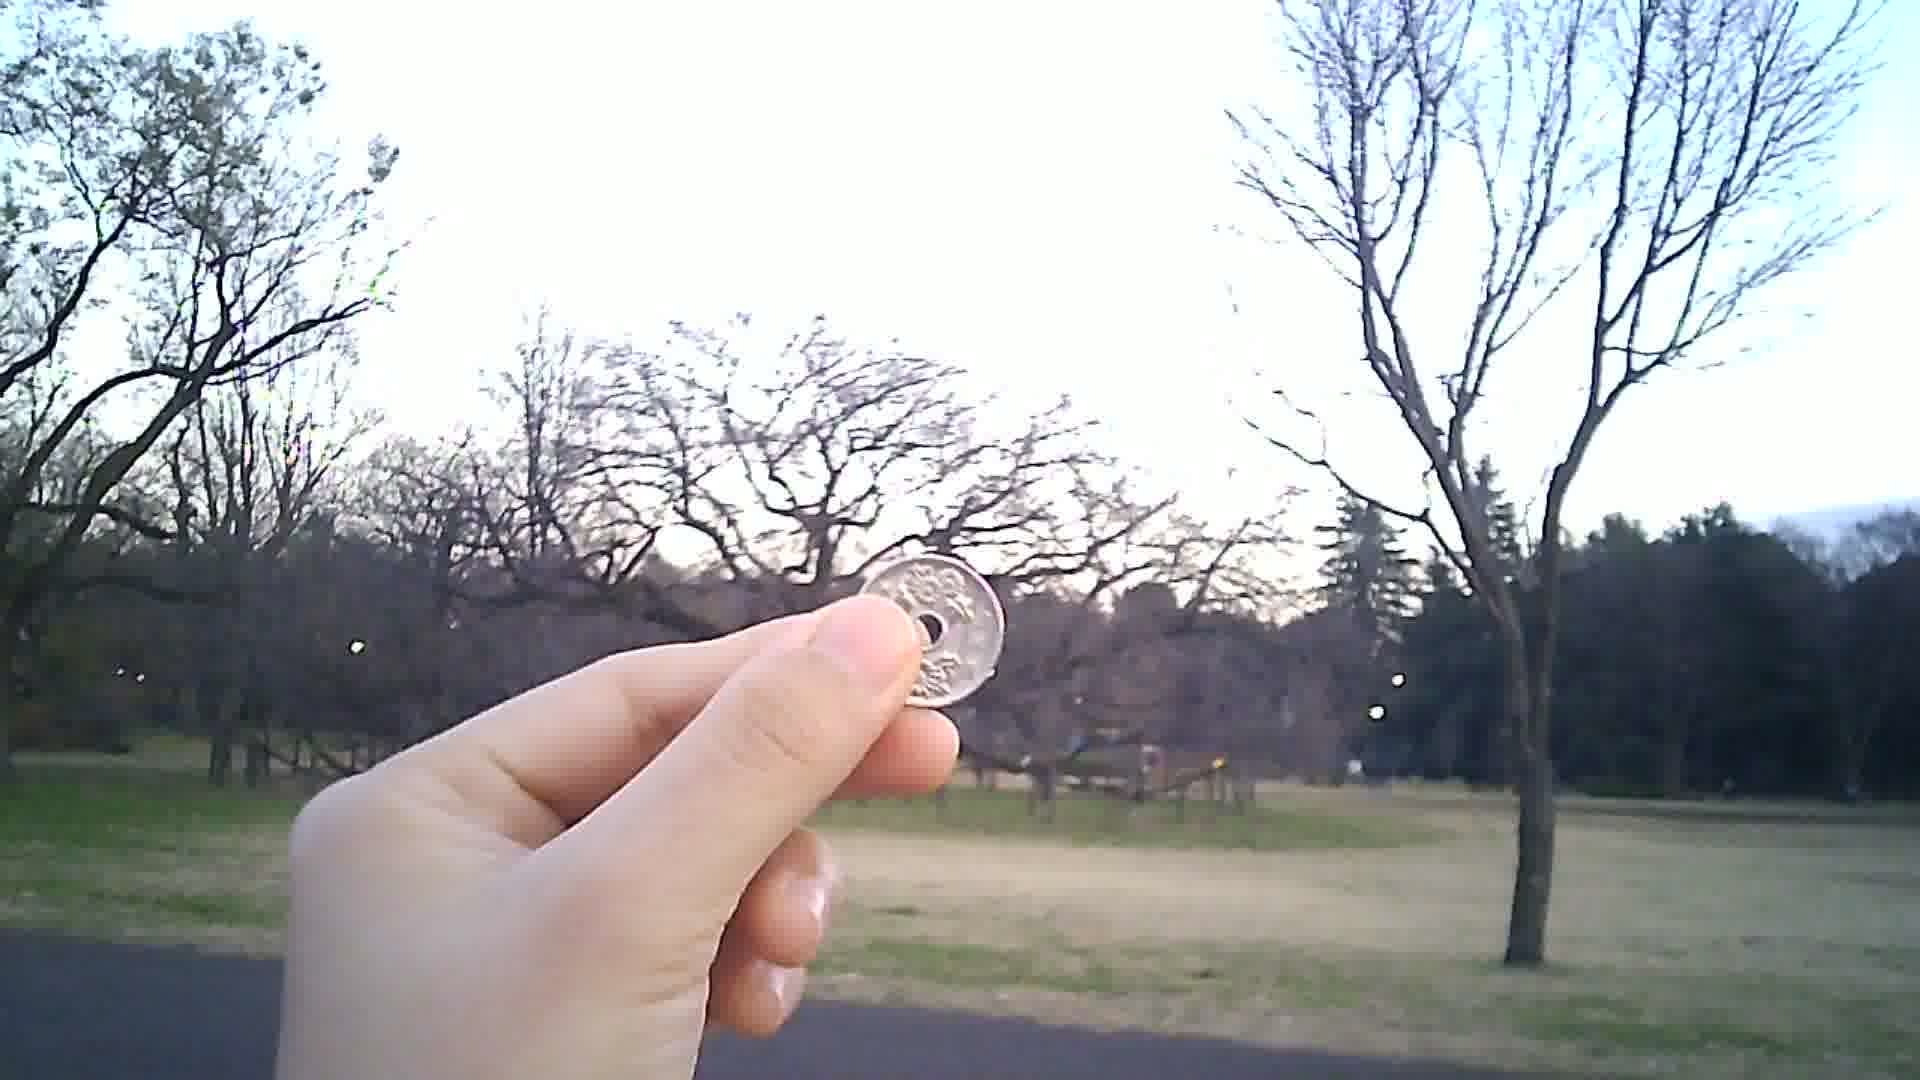50 Yen: (855, 545, 1011, 712)
